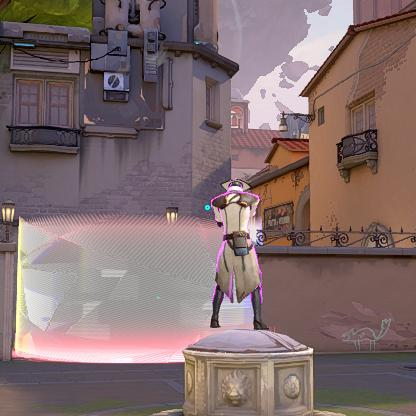enemyBody: (220, 196, 252, 235)
enemyHead: (229, 181, 243, 192)
